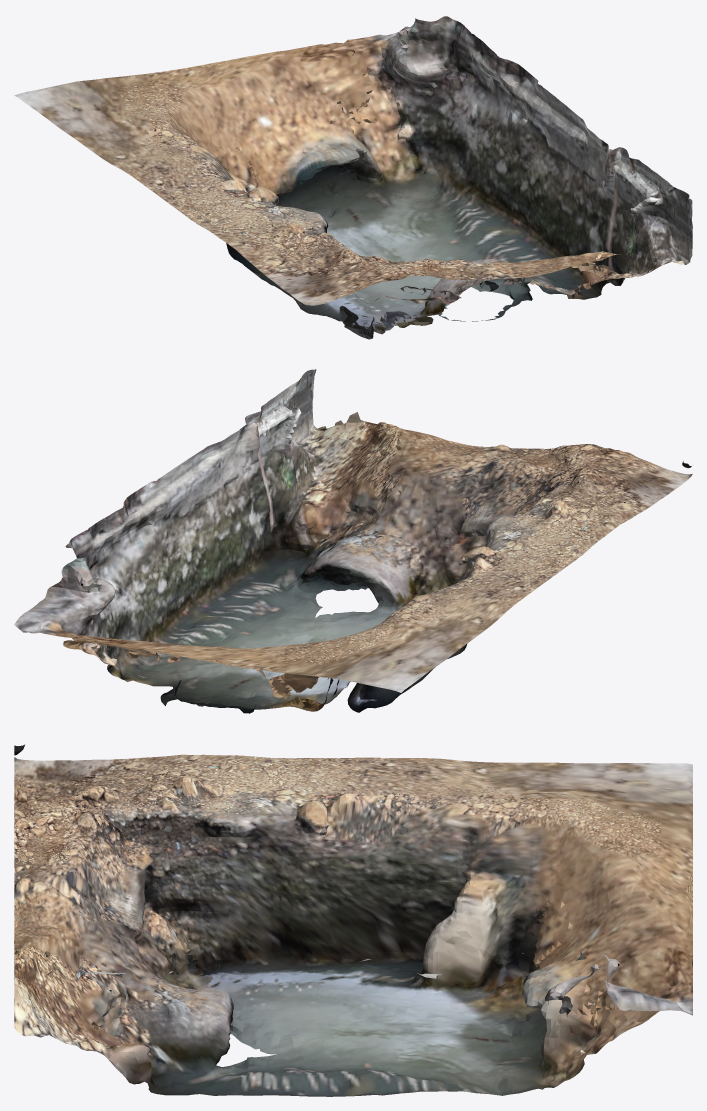
The model's file is construction_site_dig_hole_repair_for_sewage.glb.
3 views of the same model, one above another, from view 1: azimuth 30°, elevation 25°; view 2: azimuth 150°, elevation 25°; view 3: azimuth 270°, elevation 25° (orthographic). The views are drawn at different scales.
Parts seen in each view (by area): view 1: Object_4; view 2: Object_4; view 3: Object_4.
Boxes of the visible parts, x1,y1,x2,y2 form: Object_4: (14, 16, 692, 339); Object_4: (14, 369, 692, 713); Object_4: (14, 744, 692, 1096).
Bounding box in the file's own units: 3.53 × 1.21 × 4.6.
1 material, 1 textured.
